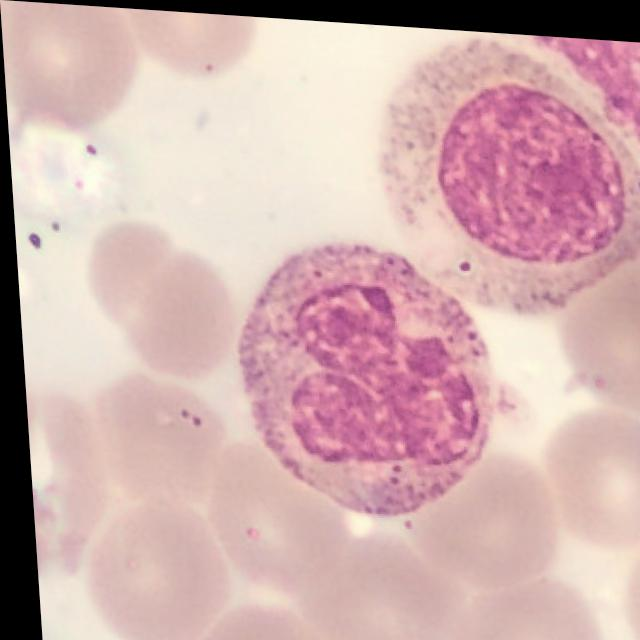Bastonete: (234, 239, 495, 514)
Mielocito: (385, 32, 640, 299)
